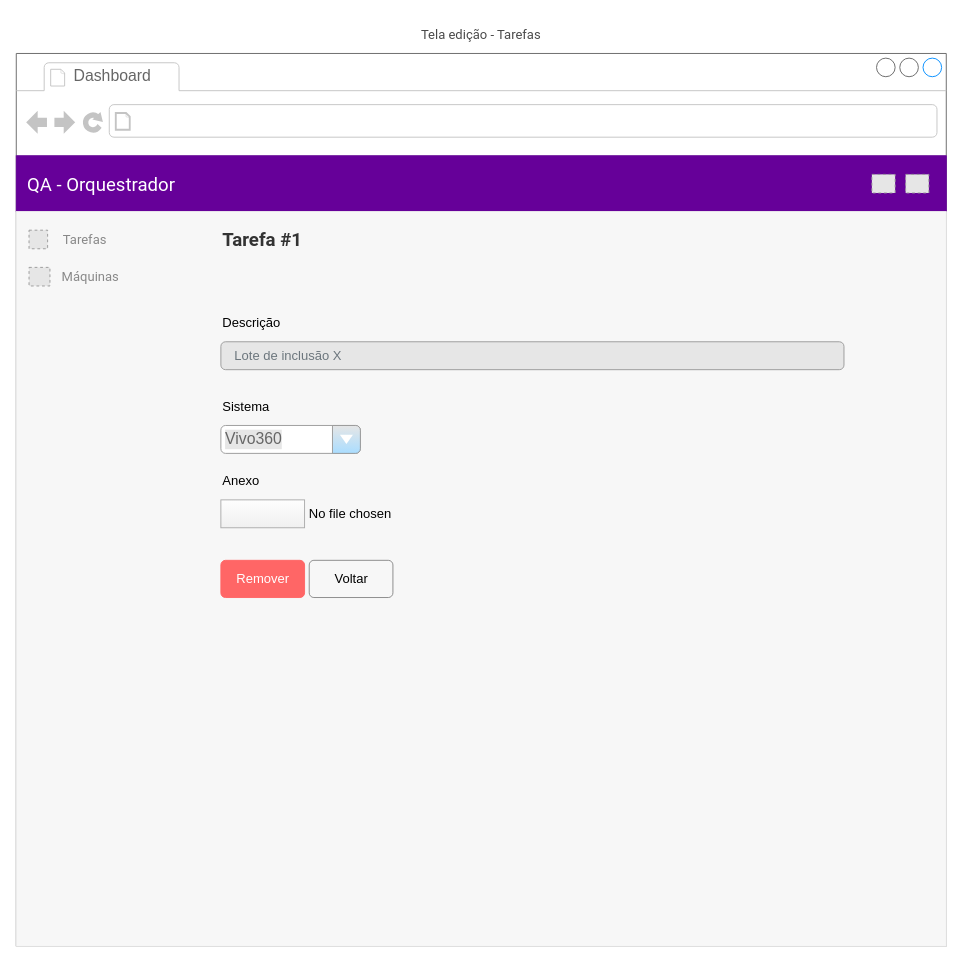
Image size: 963x963. Some labels were removed from this diagram. Grey dashed boxes stand in for pictures. The shapes that lost their labels are listed below. From the top down, each one's centre as x and y in pixels, then its label:
At (x=253, y=120): "localhost:3000/tarefas/1".
At (x=262, y=513): "Choose File".
